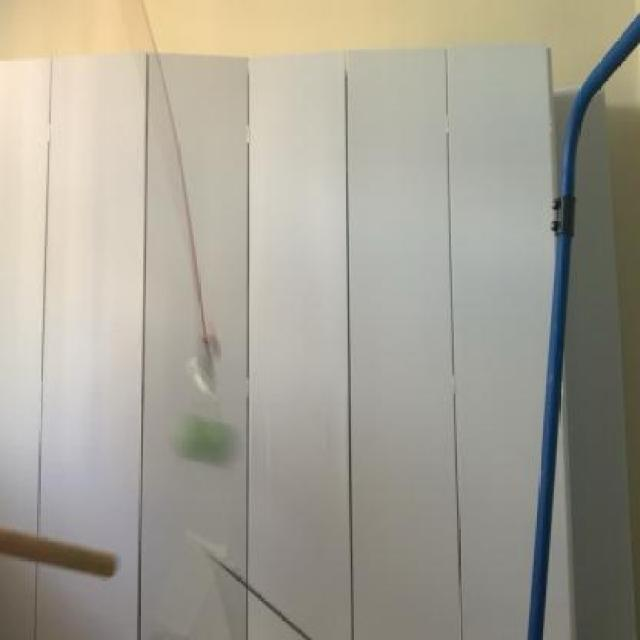baseball: (162, 401, 249, 482)
